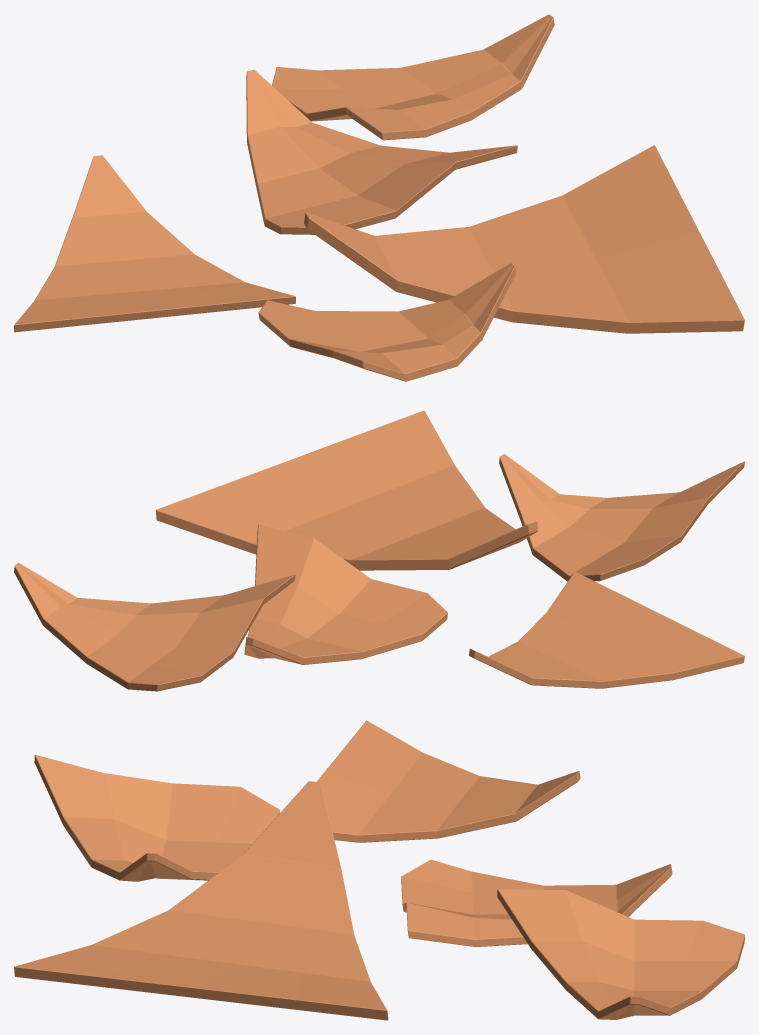
Rendered from chips_4_partyassets.fbx.
3 renders of one model, top to bottom at view 1: azimuth 30°, elevation 25°; view 2: azimuth 150°, elevation 25°; view 3: azimuth 270°, elevation 25°, orthographic. The views are drawn at different scales.
Parts seen in each view (by area): view 1: chips_4_partyassets; view 2: chips_4_partyassets; view 3: chips_4_partyassets.
Boxes of the visible parts, x1,y1,x2,y2 form: chips_4_partyassets: [14, 14, 744, 381]; chips_4_partyassets: [14, 410, 744, 691]; chips_4_partyassets: [14, 720, 744, 1020].
Size of the model in its own units: 28.41 by 3.32 by 27.81.
